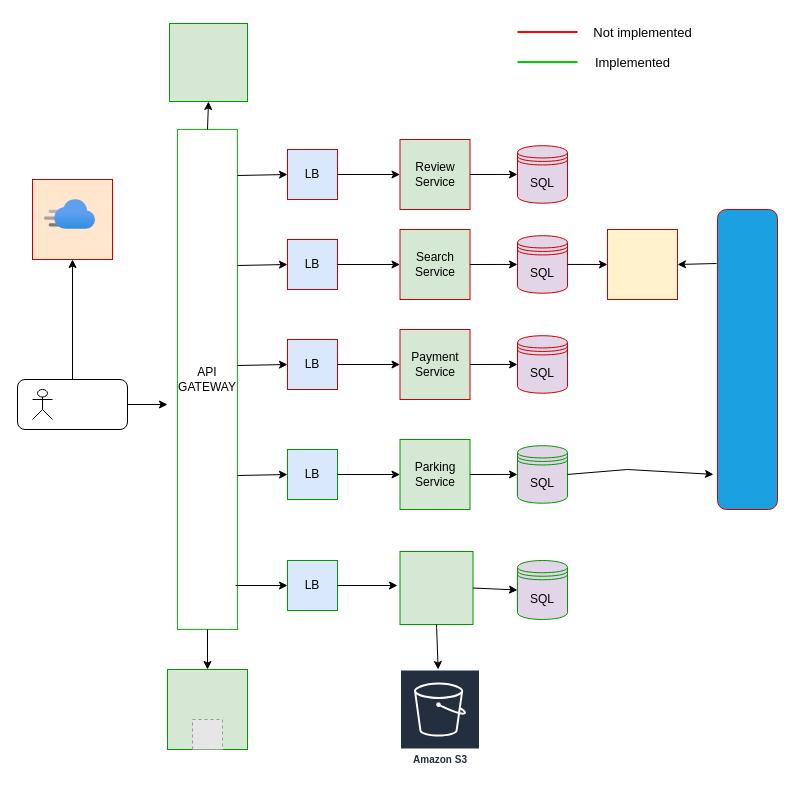
Image size: 795x787. Some labels were removed from this diagram. Grey dashed boxes stand in for pictures. Here are the shapes that lost their labels. From the top down, the box of each, then its label:
(168, 22, 248, 102): Service Discovery
(44, 199, 95, 229): CDN
(606, 228, 678, 300): Elastic Search
(716, 208, 778, 510): Kafka
(16, 378, 128, 430): USER
(399, 550, 473, 624): Account Service
(166, 668, 248, 750): Keycloak
